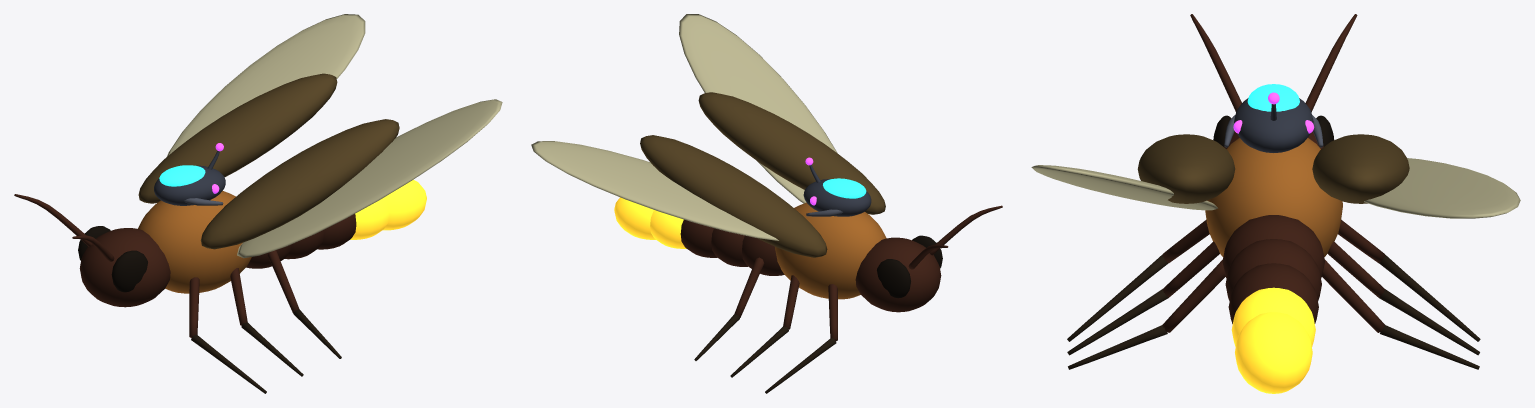
The model's file is controlled_firefly.glb.
The picture shows the model from 3 angles, left to right: view 1: azimuth 30°, elevation 25°; view 2: azimuth 150°, elevation 25°; view 3: azimuth 270°, elevation 25°; orthographic projection. The views are drawn at different scales.
Parts seen in each view (by area): view 1: Elytron_L, Wing_L, Elytron_R, Wing_R, Thorax, Head, Abdomen_4, ControlShell, Eye, Abdomen_3, Abdomen_2, CyanLens (+8 smaller); view 2: Elytron_R, Wing_L, Elytron_L, Wing_R, Thorax, Head, ControlShell, Abdomen_4, Abdomen_0, Abdomen_1, Eye.001, Abdomen_3 (+8 smaller); view 3: Thorax, Wing_R, Elytron_R, Elytron_L, Abdomen_4, ControlShell, Wing_L, Abdomen_0, Abdomen_1, Abdomen_2, Abdomen_3, Upper.002 (+14 smaller).
Boxes of the visible parts, left/top/right/bottom form: Elytron_L: left=200, top=119, right=399, bottom=249; Wing_L: left=237, top=99, right=502, bottom=258; Elytron_R: left=138, top=73, right=337, bottom=203; Wing_R: left=167, top=14, right=365, bottom=156; Thorax: left=138, top=191, right=251, bottom=293; Head: left=79, top=228, right=170, bottom=307; Abdomen_4: left=383, top=179, right=426, bottom=230; ControlShell: left=154, top=165, right=225, bottom=205; Eye: left=111, top=250, right=147, bottom=292; Abdomen_3: left=350, top=197, right=388, bottom=239; Abdomen_2: left=317, top=214, right=356, bottom=249; CyanLens: left=159, top=165, right=205, bottom=186; Elytron_R: left=640, top=135, right=827, bottom=257; Wing_L: left=679, top=14, right=837, bottom=203; Elytron_L: left=698, top=92, right=885, bottom=214; Wing_R: left=531, top=141, right=778, bottom=240; Thorax: left=775, top=202, right=886, bottom=299; Head: left=855, top=237, right=941, bottom=312; ControlShell: left=803, top=179, right=871, bottom=216; Abdomen_4: left=614, top=197, right=655, bottom=239; Abdomen_0: left=742, top=235, right=784, bottom=275; Abdomen_1: left=711, top=228, right=747, bottom=266; Eye.001: left=877, top=259, right=910, bottom=298; Abdomen_3: left=650, top=210, right=686, bottom=248; Thorax: left=1205, top=138, right=1342, bottom=257; Wing_R: left=1364, top=158, right=1520, bottom=218; Elytron_R: left=1312, top=134, right=1409, bottom=203; Elytron_L: left=1137, top=134, right=1235, bottom=203; Abdomen_4: left=1235, top=312, right=1312, bottom=393; ControlShell: left=1234, top=98, right=1313, bottom=152; Wing_L: left=1031, top=165, right=1217, bottom=210; Abdomen_0: left=1222, top=215, right=1324, bottom=278; Abdomen_1: left=1225, top=239, right=1321, bottom=300; Abdomen_2: left=1228, top=263, right=1318, bottom=323; Abdomen_3: left=1231, top=287, right=1315, bottom=346; Upper.002: left=1162, top=259, right=1225, bottom=332.
Bounding box in the file's own units: 1.24 × 0.7149 × 0.9532.
